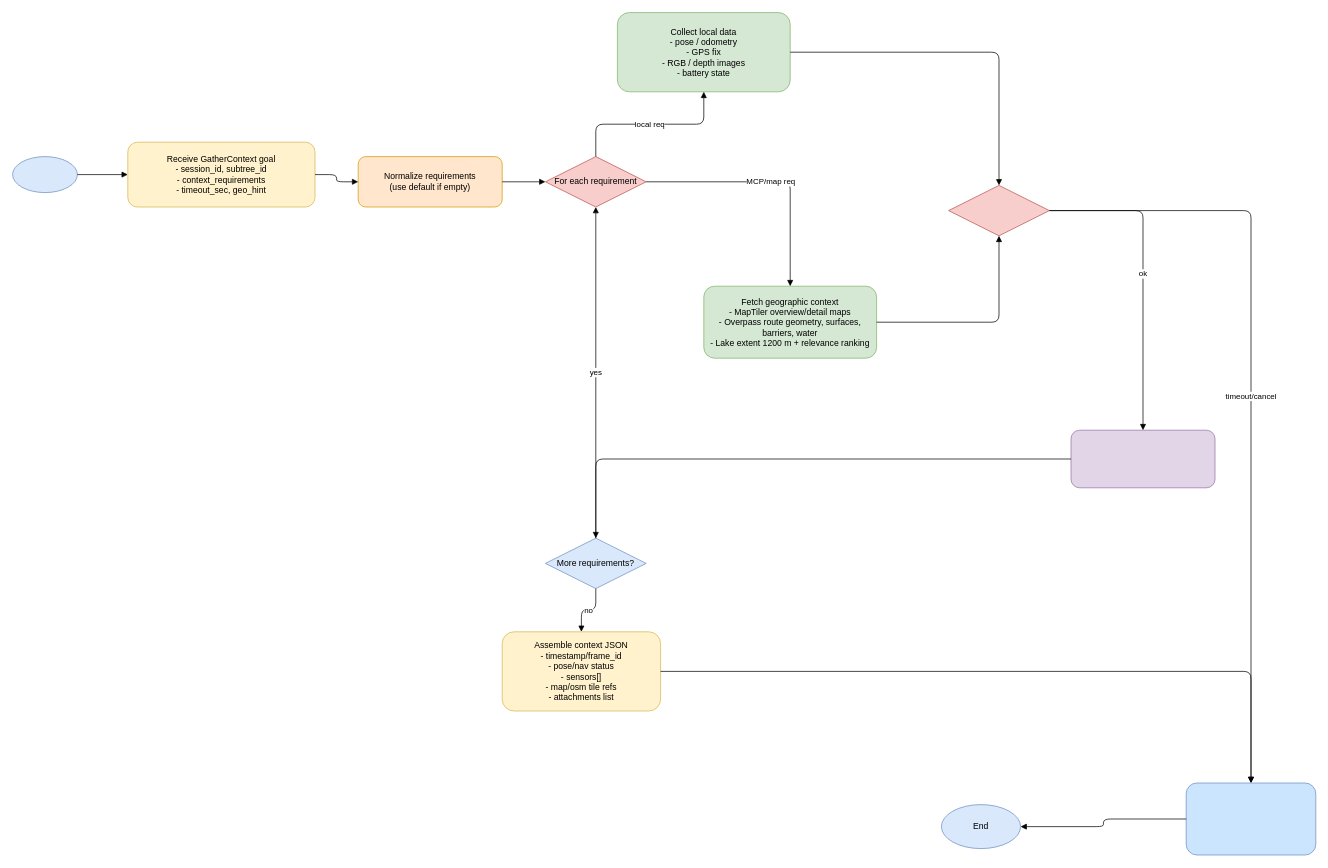
Some shapes in this 1328 by 868 pixel diagram are drawn without their labels. Here are the shapes that lost their labels. From the top down, the centre of each, then its label:
At (x=44, y=174): "Start".
At (x=998, y=210): "Timeout or cancel?".
At (x=1142, y=458): "Save attachments (png/pcd/tile) record URIs + metadata".
At (x=1250, y=818): "Return Result - success/partial - context_json - attachment_uris - message".
